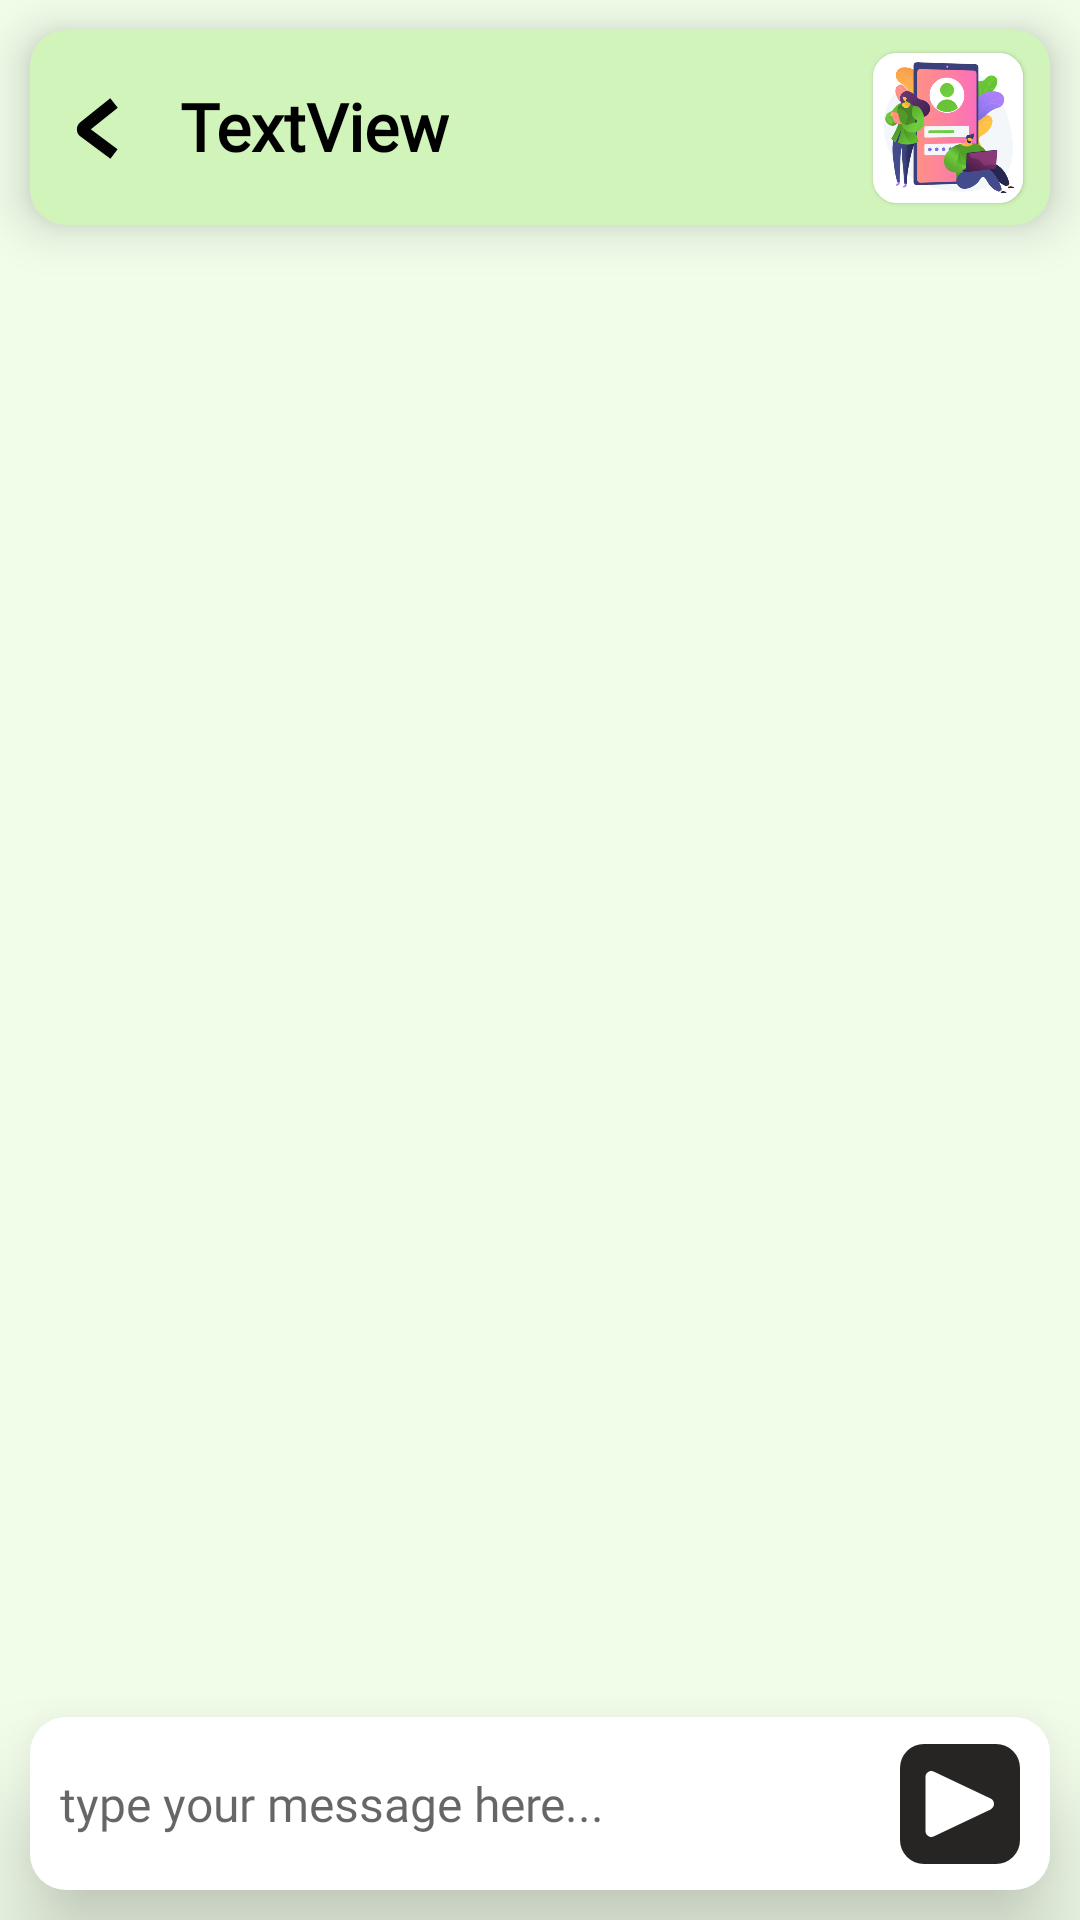

Screen size 1080px×1920px. Icon name, then its box in pixels as (x1, y1, x2, y2):
back: (77, 98, 118, 159)
login main: (873, 53, 1023, 203)
sendbutton: (900, 1744, 1020, 1864)
